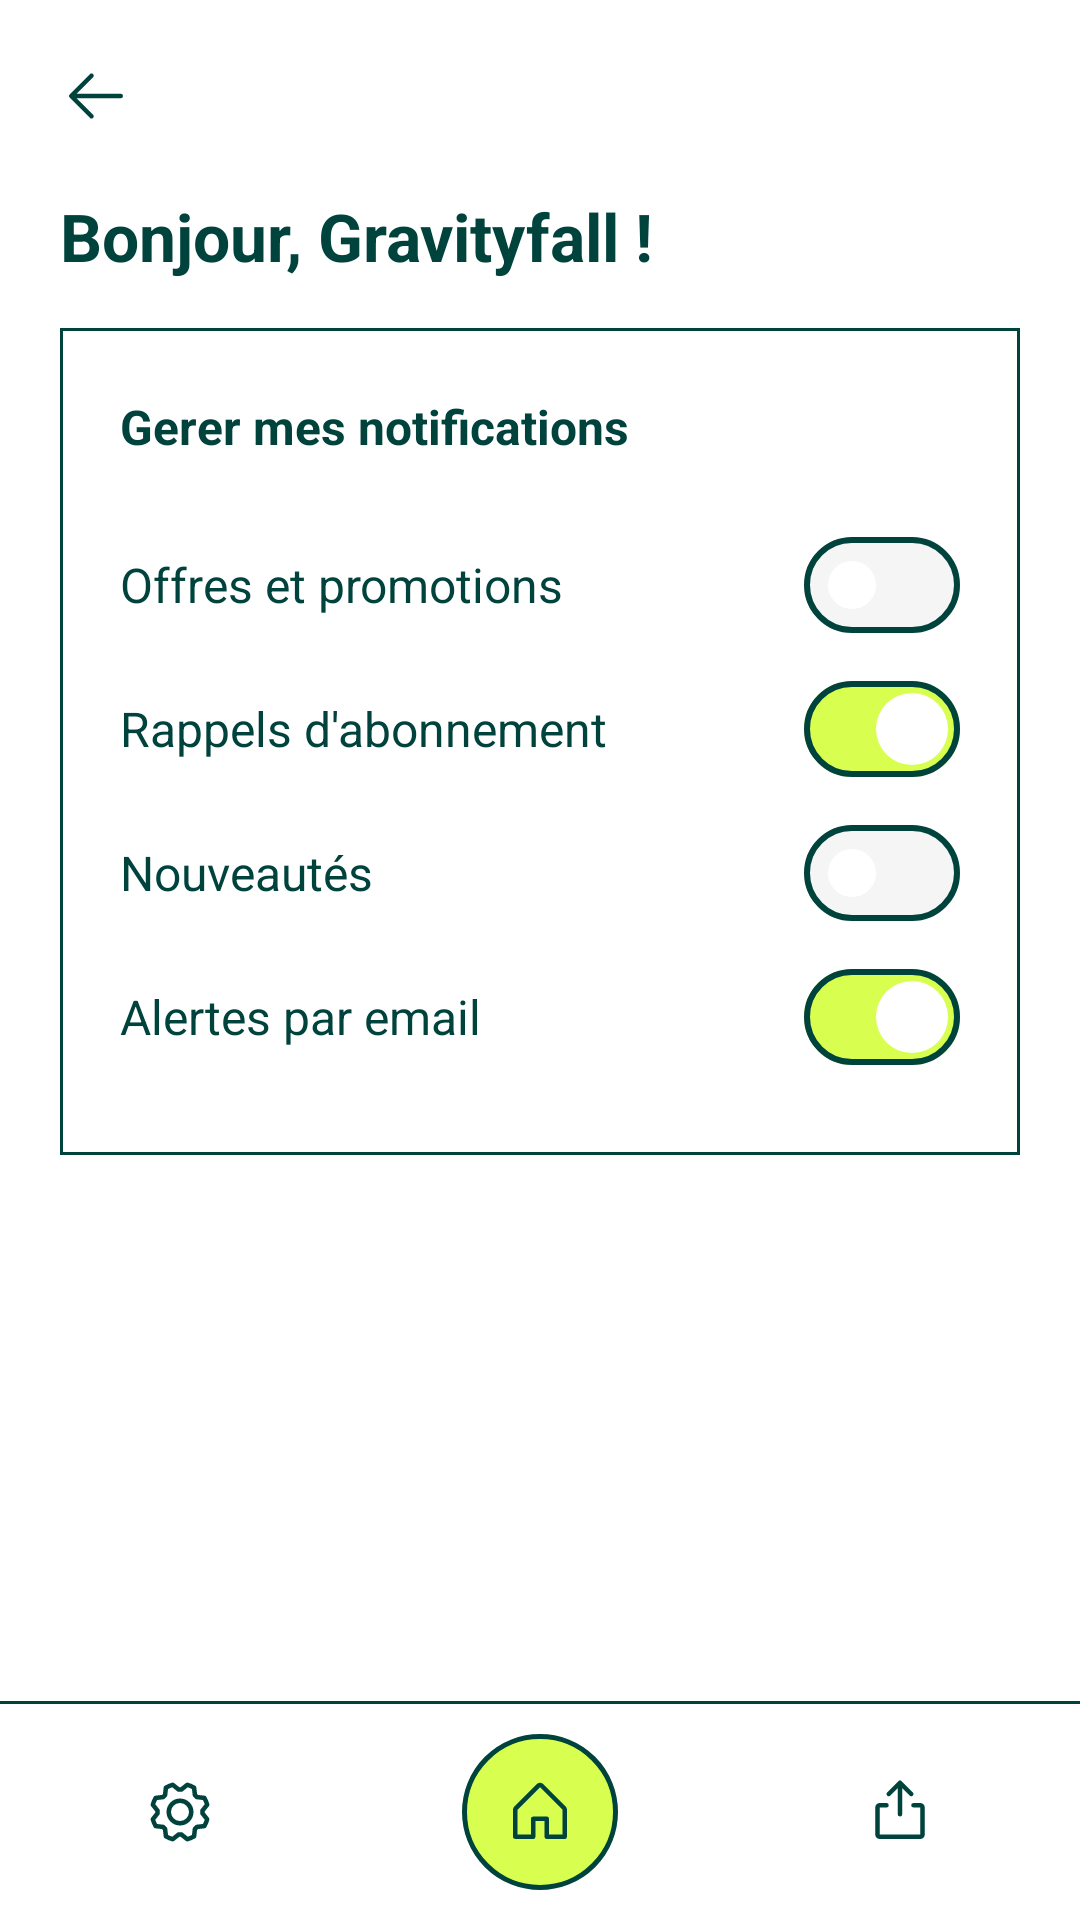

Screen size 1080px x 1920px. Icon name, then its center in pixels as point (x, y):
Accueil: point (540, 1812)
Paramètres: point (180, 1812)
Partager: point (900, 1809)
Retour: point (96, 96)
